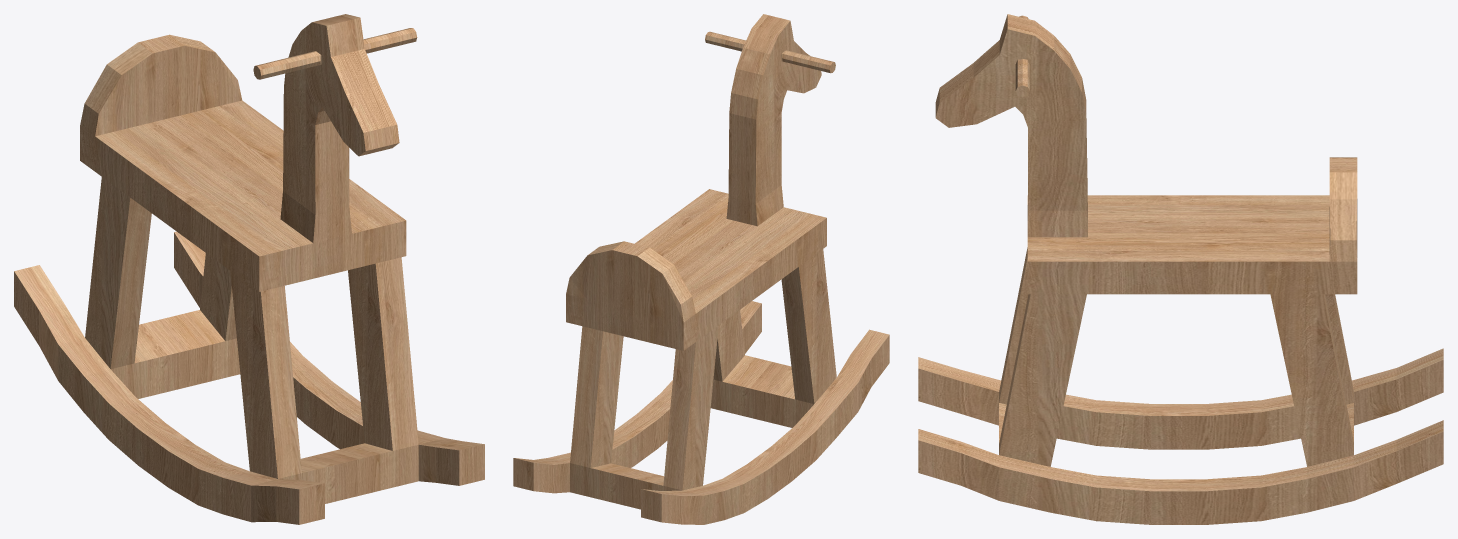
File: wood hh.fbx
3 renders of one model, left to right at view 1: azimuth 30°, elevation 25°; view 2: azimuth 150°, elevation 25°; view 3: azimuth 270°, elevation 25°, orthographic. The views are drawn at different scales.
Visible parts, largest first — view 1: Box002; view 2: Box002; view 3: Box002.
Boxes of the visible parts, x1=… form: Box002: x1=14, y1=14, x2=484, y2=524; Box002: x1=513, y1=14, x2=889, y2=524; Box002: x1=918, y1=14, x2=1443, y2=524.
Bounding box in the file's own units: 249 × 632 × 611.
1 material, 1 textured.
